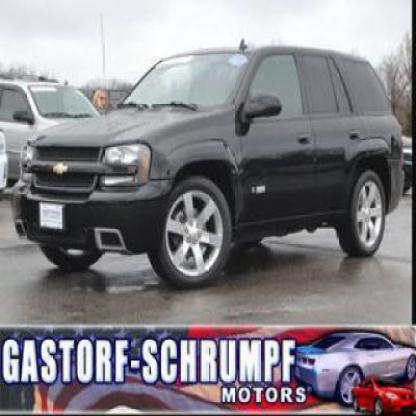Vehicle: (12, 37, 408, 292)
